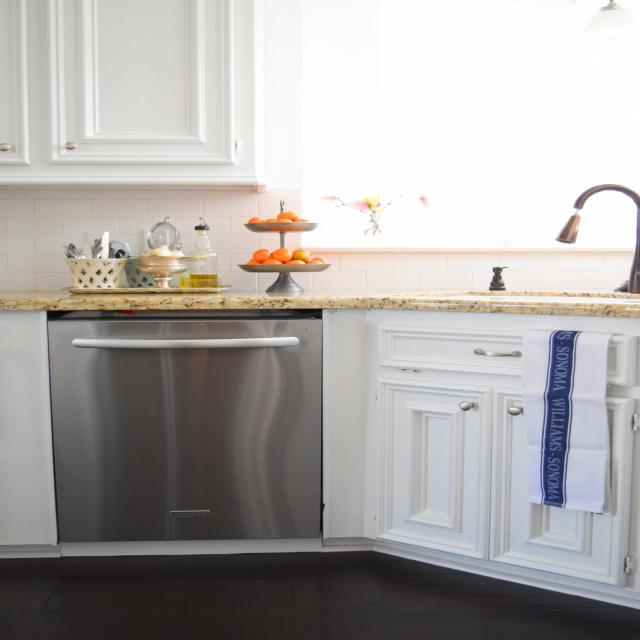dishwasher: (43, 302, 325, 558)
